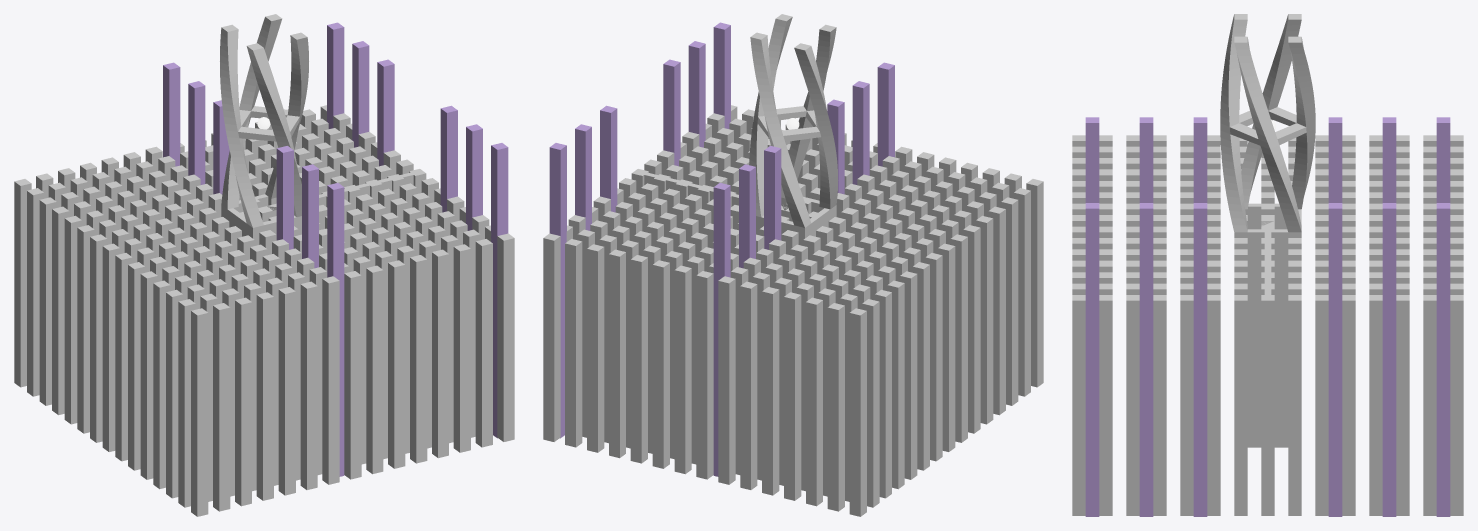
File: geo-island2.glb
The picture shows the model from 3 angles, left to right: view 1: azimuth 30°, elevation 25°; view 2: azimuth 150°, elevation 25°; view 3: azimuth 270°, elevation 25°; orthographic projection. The views are drawn at different scales.
Visible parts, largest first — view 1: Plane.001-col, Plane.002-col; view 2: Plane.001-col, Plane.002-col; view 3: Plane.001-col, Plane.002-col.
Part boxes in pixels (x1,y1,x2,y2): Plane.001-col: (14,14,514,516); Plane.002-col: (163,22,508,476); Plane.001-col: (543,14,1043,516); Plane.002-col: (549,22,894,476); Plane.001-col: (1072,14,1463,515); Plane.002-col: (1085,117,1450,516).
Bounding box in the file's own units: 56.12 × 64.19 × 56.12.
